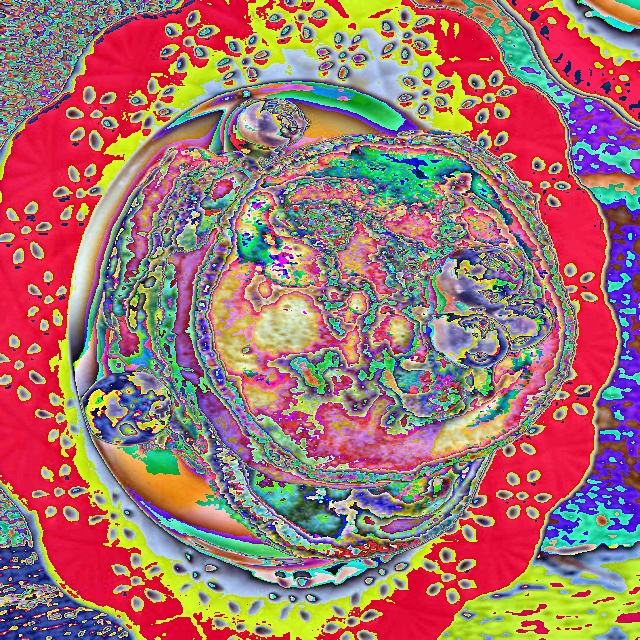background: (83, 98, 578, 562)
